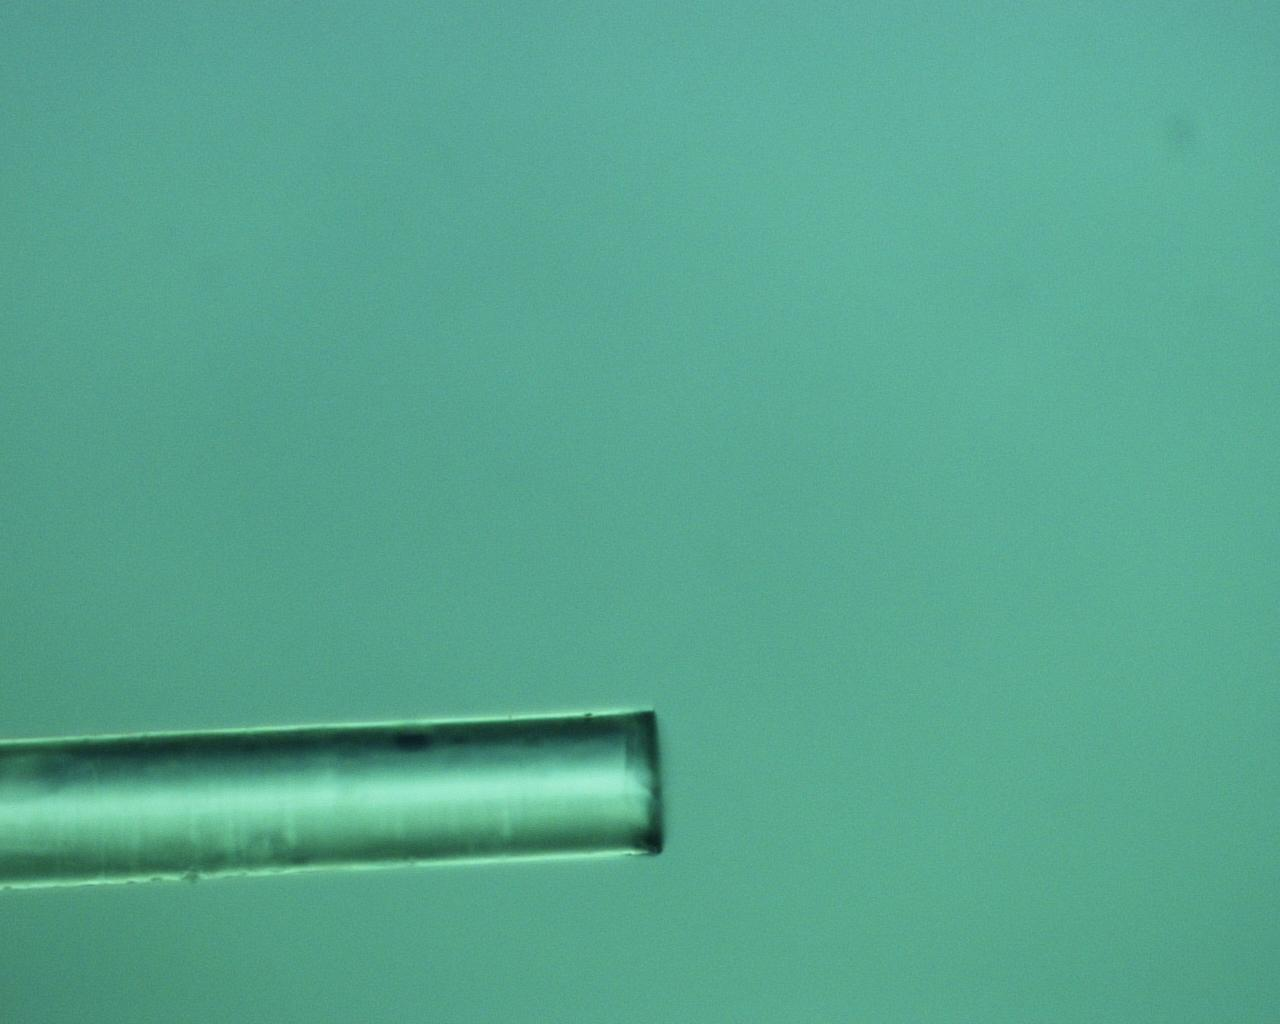fiber: (0, 708, 668, 888)
